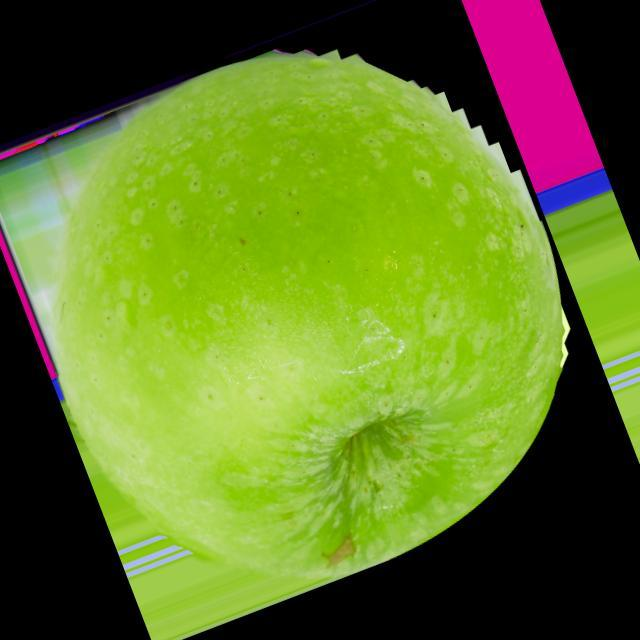Green Apple: (49, 48, 571, 592)
